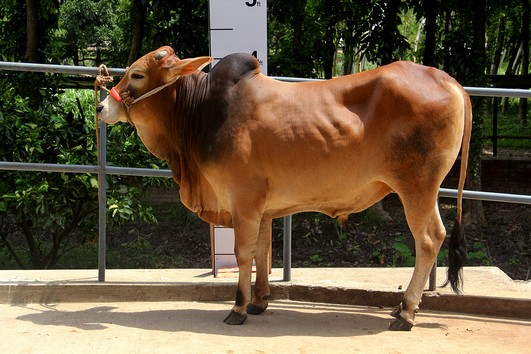cow: (90, 41, 477, 339)
